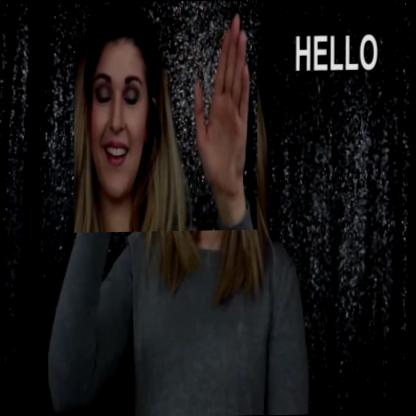Hello: (70, 0, 261, 232)
